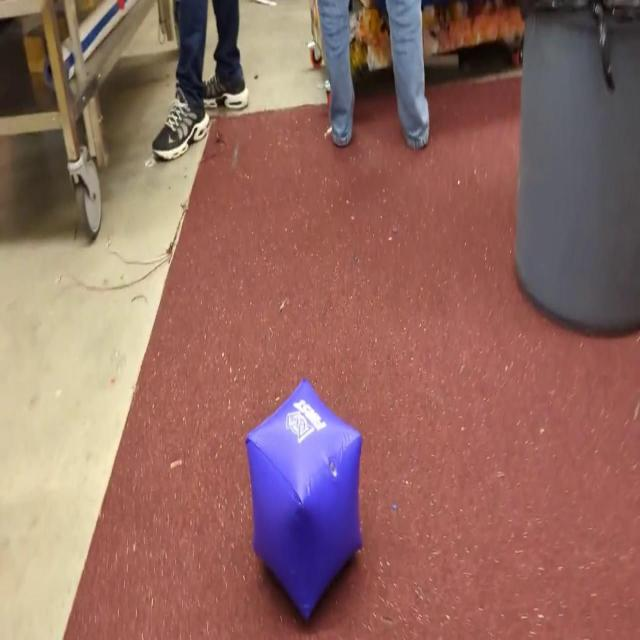frc_cube: (244, 378, 364, 625)
